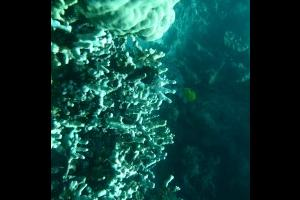bleached_corals: (50, 23, 180, 200), (76, 0, 178, 41)
